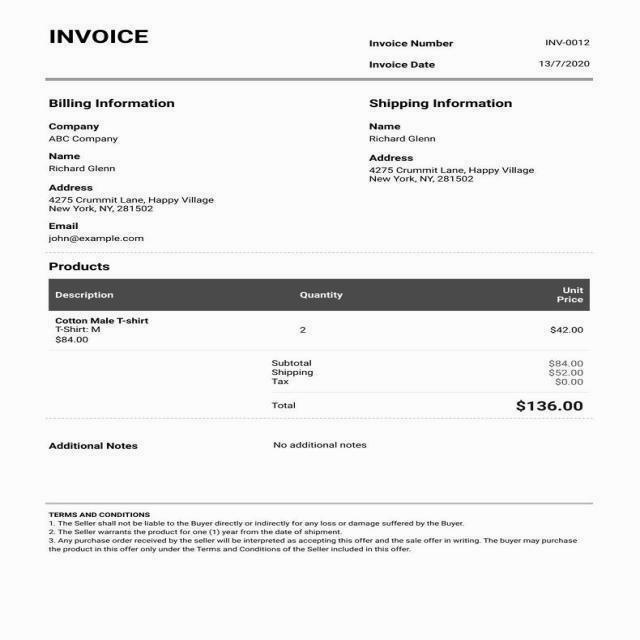paragraph: (46, 507, 583, 581), (39, 89, 253, 249), (255, 353, 599, 417), (355, 93, 542, 202), (43, 421, 374, 460), (363, 55, 603, 75), (356, 34, 601, 50), (34, 22, 158, 51)
table: (33, 262, 608, 348)
